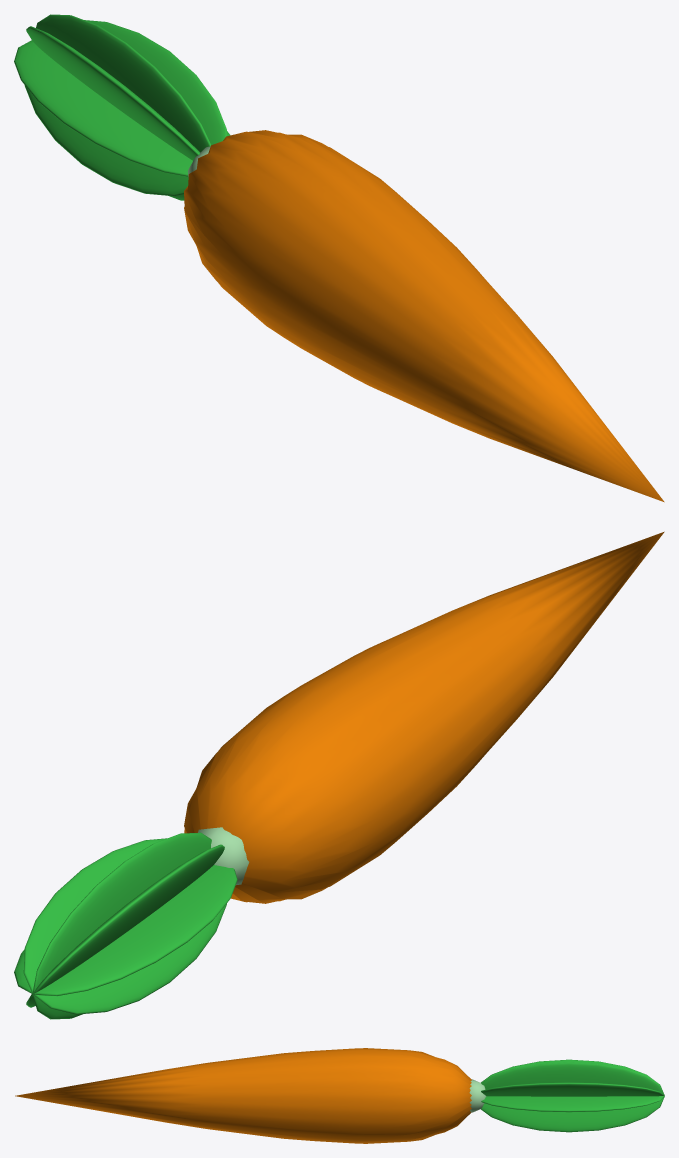
The model's file is ninzinNotHis0117.fbx.
The picture shows the model from 3 angles, top to bottom: view 1: azimuth 30°, elevation 25°; view 2: azimuth 150°, elevation 25°; view 3: azimuth 270°, elevation 25°; orthographic projection. The views are drawn at different scales.
Visible parts, largest first — view 1: pCone2; view 2: pCone2; view 3: pCone2.
Part boxes in pixels (x1=…): pCone2: x1=14, y1=14, x2=664, y2=502; pCone2: x1=14, y1=531, x2=664, y2=1019; pCone2: x1=15, y1=1048, x2=664, y2=1143.
Bounding box in the file's own units: 2.43 × 2.43 × 16.67.
